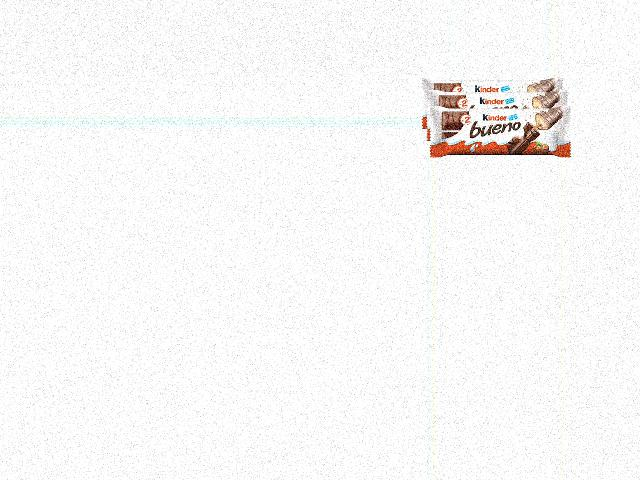chocolate: (422, 77, 567, 158)
